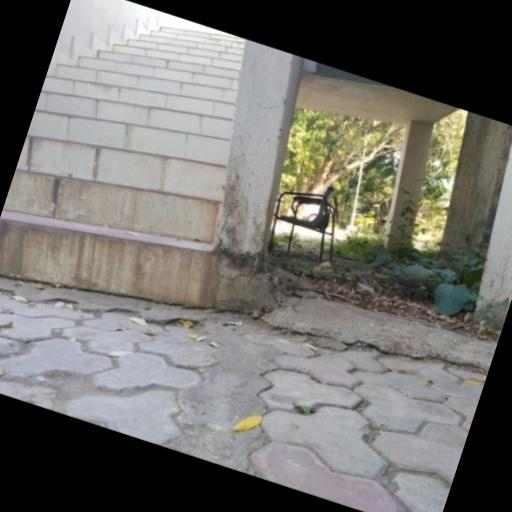stairs: (0, 28, 244, 305)
